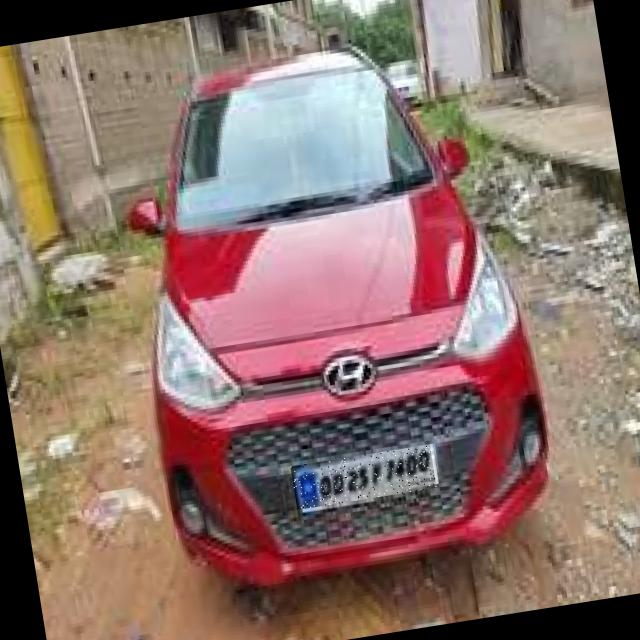Plate: (292, 445, 438, 511)
